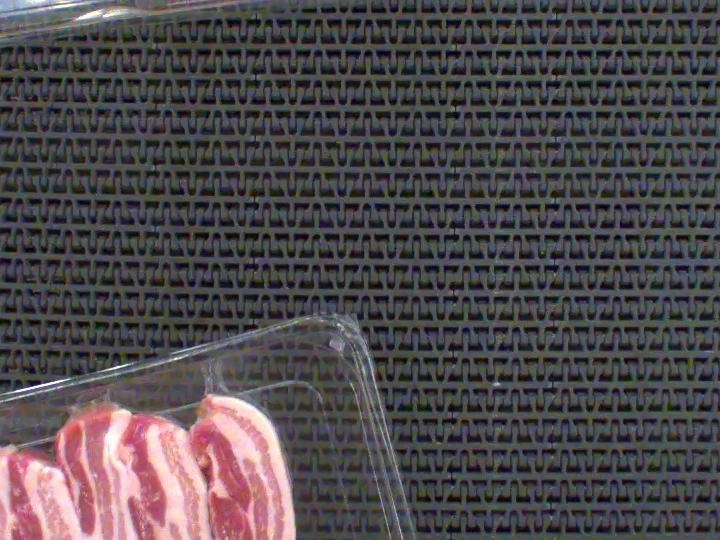packaging-error: (164, 354, 264, 411), (54, 373, 145, 431)
